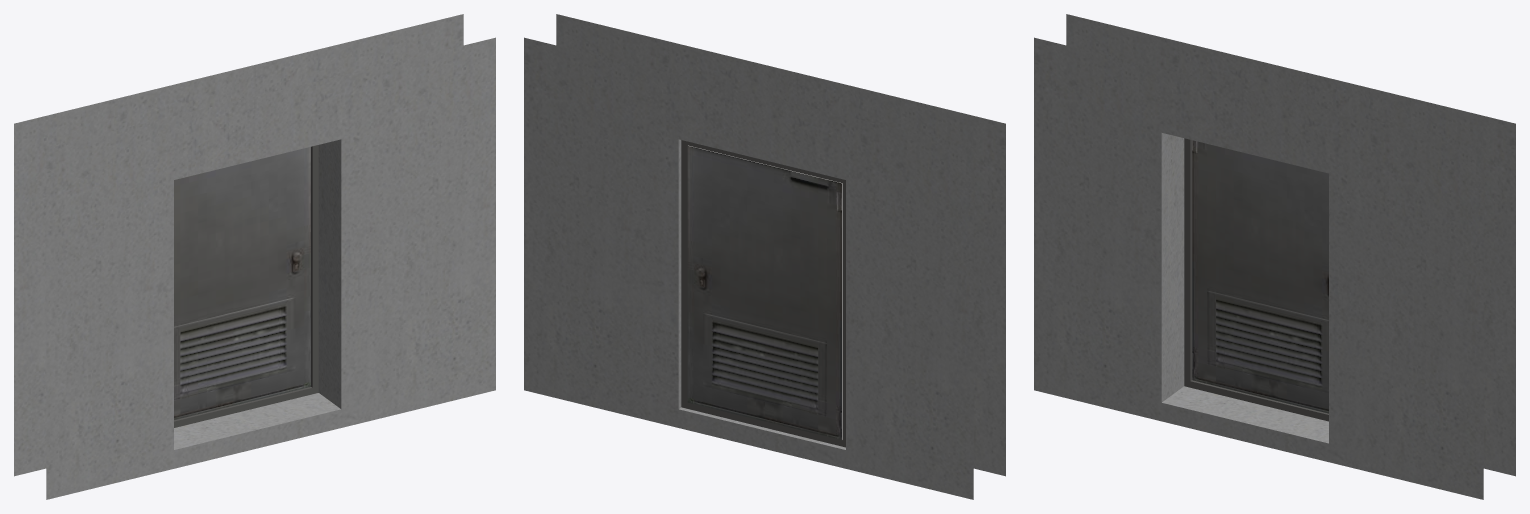
File: Wall_Door_4m.FBX
3 renders of one model, left to right at view 1: azimuth 30°, elevation 25°; view 2: azimuth 150°, elevation 25°; view 3: azimuth 330°, elevation 25°, orthographic.
Parts seen in each view (by area): view 1: Wall_Door_4m_mesh, Wall_Door_door; view 2: Wall_Door_4m_mesh, Wall_Door_door; view 3: Wall_Door_4m_mesh, Wall_Door_door.
Part boxes in pixels (x1,y1,x2,y2): Wall_Door_4m_mesh: (14,14,495,499); Wall_Door_door: (174,147,310,419); Wall_Door_4m_mesh: (524,14,1005,499); Wall_Door_door: (687,145,842,439); Wall_Door_4m_mesh: (1034,14,1515,499); Wall_Door_door: (1192,140,1328,413).
Bounding box in the file's own units: 400 × 300 × 49.77.
2 materials, 2 textured.
